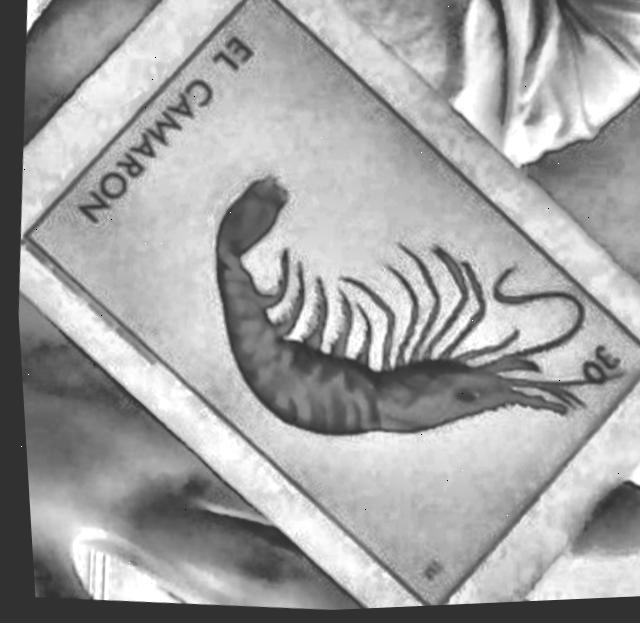El Camaron: (22, 0, 640, 609)
